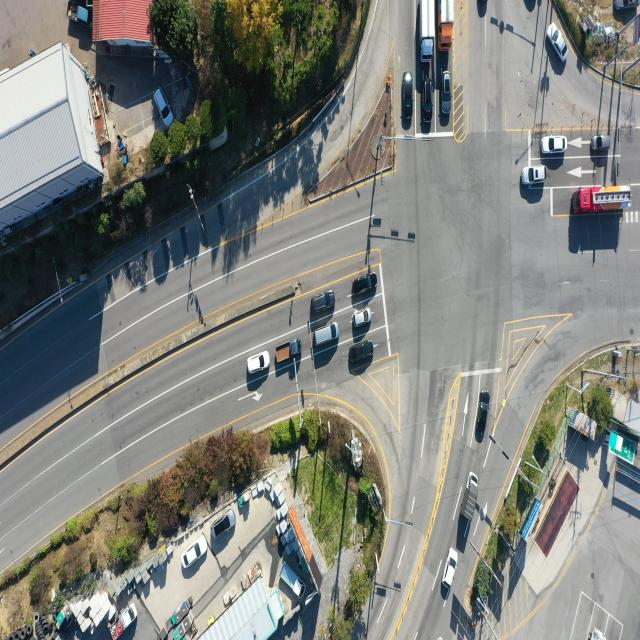car: (548, 25, 570, 65), (152, 86, 172, 127), (184, 538, 209, 570), (476, 392, 491, 444), (404, 70, 416, 126), (212, 509, 235, 538), (348, 340, 375, 364), (313, 322, 339, 346), (444, 548, 459, 589), (352, 273, 376, 297), (442, 72, 454, 120), (312, 292, 338, 314), (247, 351, 270, 374), (522, 167, 547, 186), (542, 136, 567, 154), (352, 308, 372, 328), (422, 83, 432, 120), (592, 136, 611, 151), (615, 0, 638, 11)
medium_truck: (572, 187, 630, 214), (420, 0, 437, 60), (440, 0, 457, 56)
small_truck: (462, 472, 481, 525), (279, 561, 304, 600), (114, 606, 140, 640), (65, 0, 90, 33), (275, 340, 301, 364)
